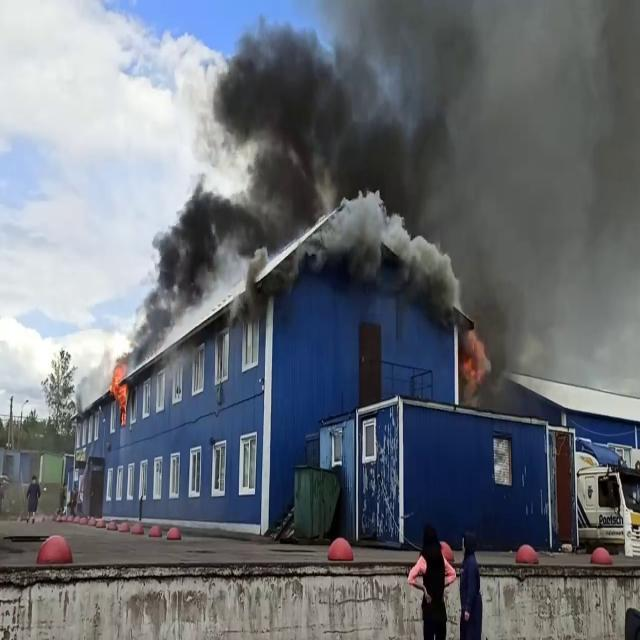Fire: (461, 320, 493, 390), (107, 357, 131, 423)
Smoke: (145, 1, 640, 320), (128, 162, 224, 376)
